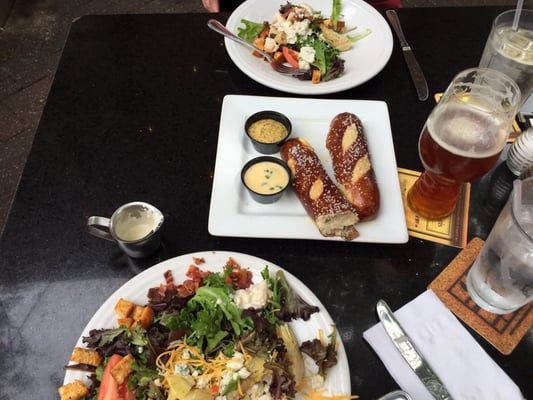sandwich: (369, 298, 459, 400), (386, 9, 431, 102)
soup: (279, 137, 362, 241), (324, 111, 380, 220)
sushi: (241, 155, 291, 204), (245, 110, 293, 156)
